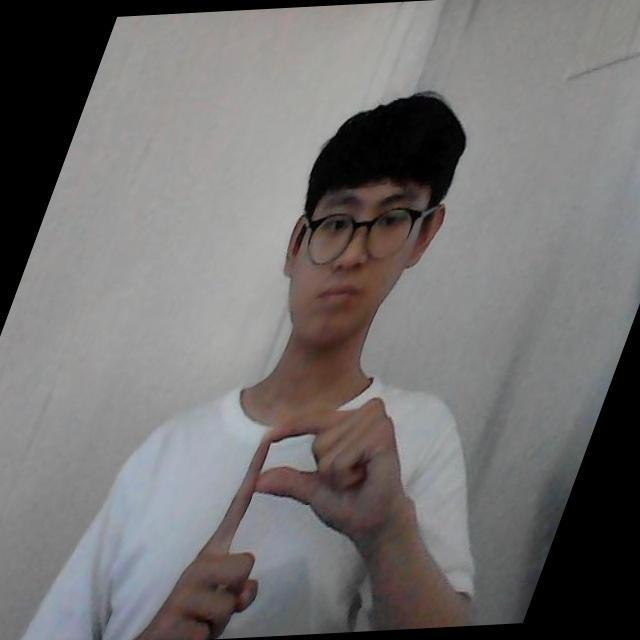P: (167, 401, 389, 639)
